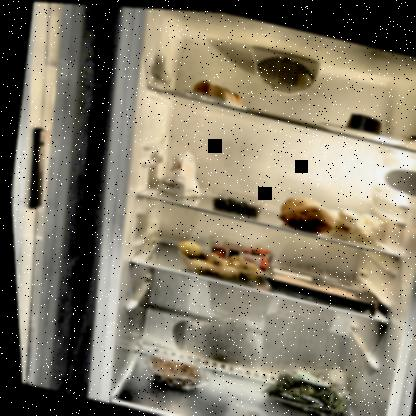blueberries: (208, 189, 261, 216)
chicken: (258, 263, 356, 303)
eggs: (190, 75, 245, 106)
green_beans: (256, 357, 362, 415)
mushrooms: (311, 198, 384, 242)
potato: (170, 237, 266, 287)
shrimp: (140, 350, 203, 391)
strawberries: (199, 231, 269, 272)
sweet_potato: (270, 188, 336, 235)
